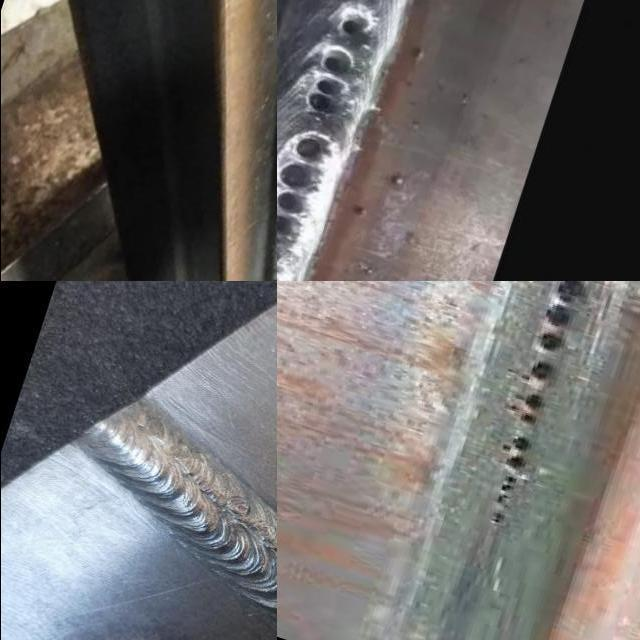defect: (508, 281, 596, 426), (276, 133, 325, 266), (483, 429, 535, 530), (300, 42, 357, 118), (342, 15, 369, 38), (226, 496, 252, 514), (253, 523, 275, 541)
